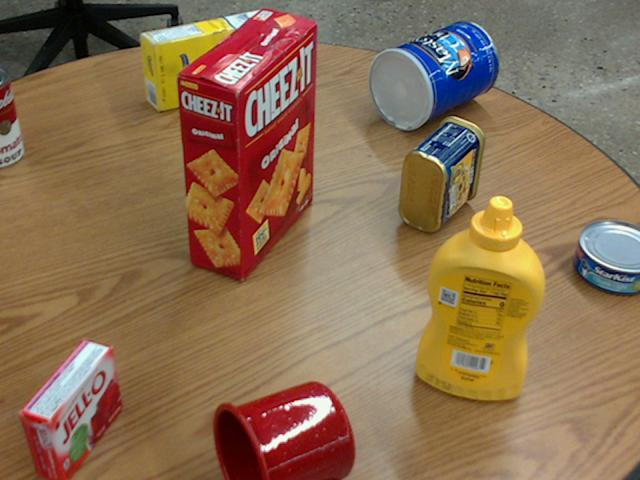cracker_box: (176, 8, 317, 279)
gelatin_box: (14, 338, 117, 479)
master_chef_can: (367, 20, 497, 128)
mug: (209, 381, 353, 479)
mustard_bottle: (414, 195, 543, 399)
potted_meat_can: (399, 115, 483, 231)
sugar_box: (140, 7, 277, 109)
tomato_soup_can: (0, 64, 22, 167)
tuna_fish_can: (571, 219, 639, 294)
